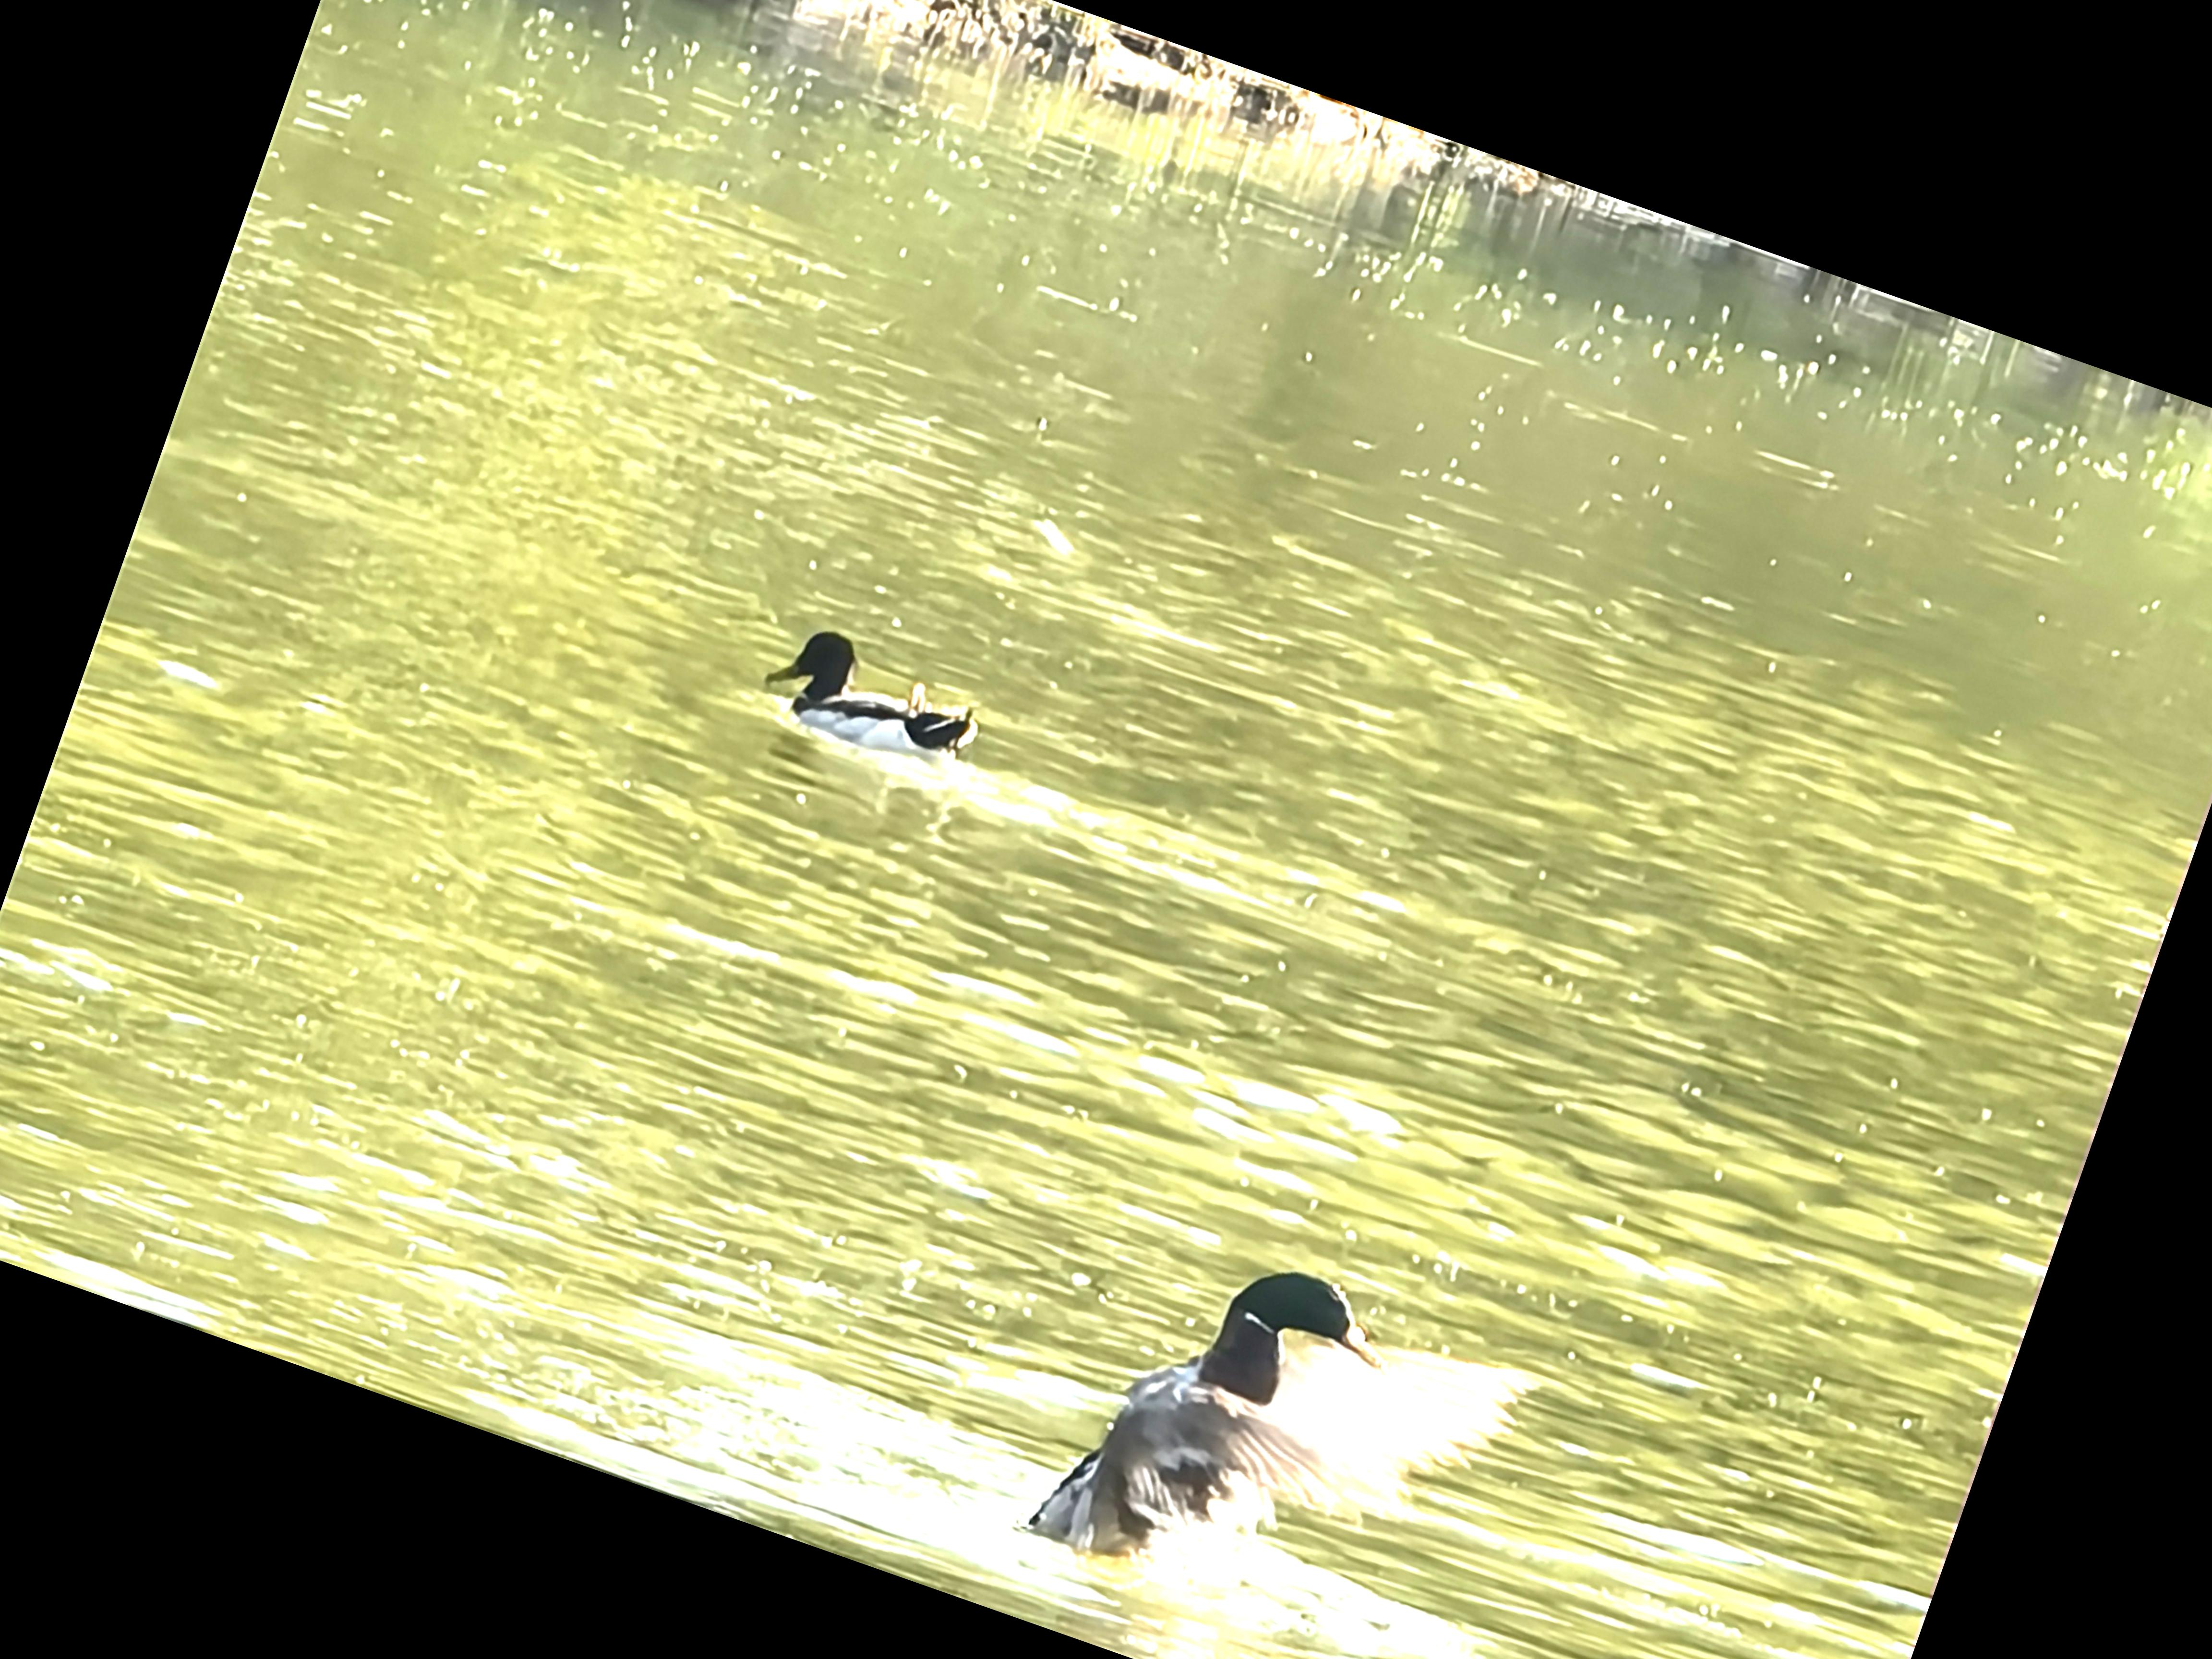duck: (961, 1154, 1576, 1659), (730, 584, 1022, 800)
